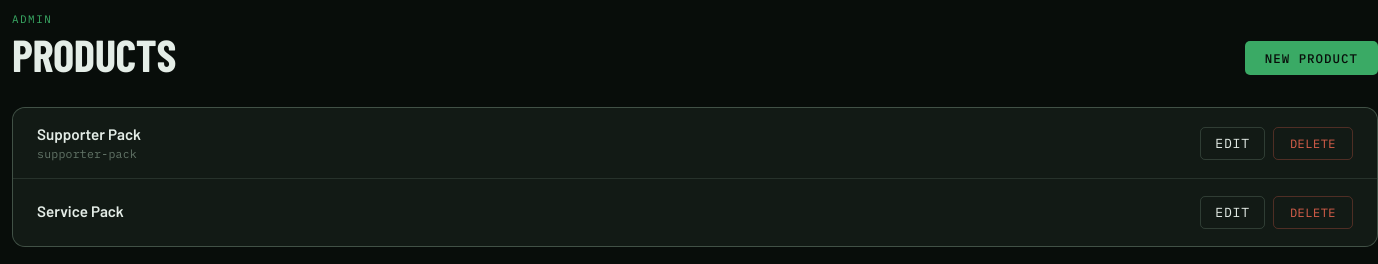
it: AdminProductsPage › deletes product after confirm
The image size is (1378, 264).
expect the text "Supporter Pack" is shown: met, box [37,125,141,143]
What coordinates should you click on to do the following:
click the button "Delete" in the row of "Supporter Pack"
I would click on:
 (1313, 143)
Its box is [1273,127,1353,160].
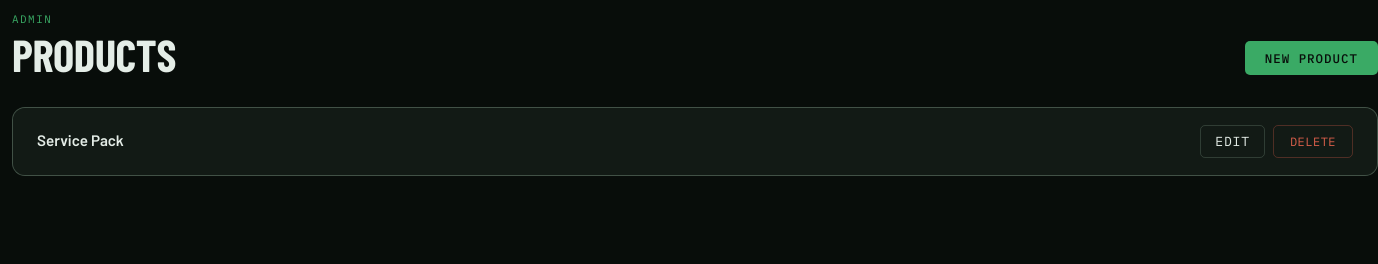
expect the text "Supporter Pack" is gone: met
